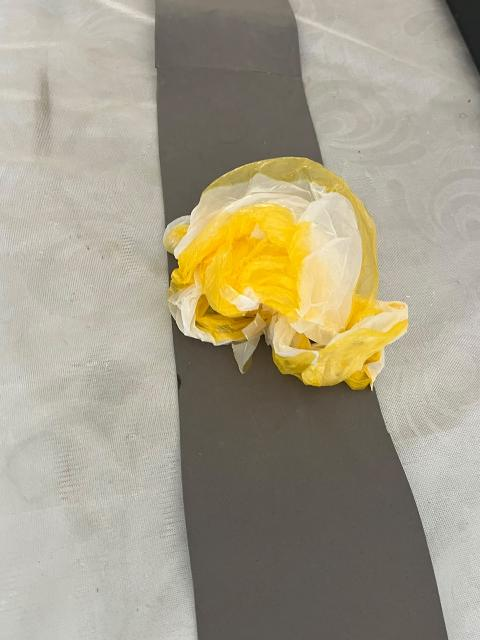LDPE: (128, 88, 437, 459)
